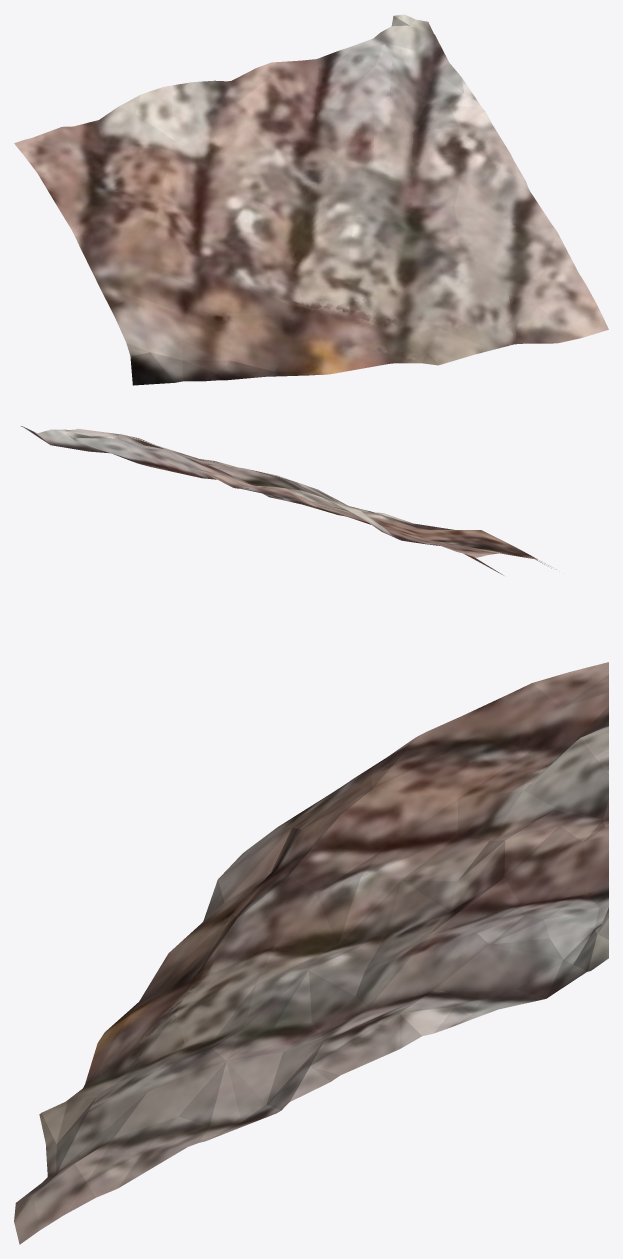
3 views of the same model, one above another, from view 1: azimuth 30°, elevation 25°; view 2: azimuth 150°, elevation 25°; view 3: azimuth 270°, elevation 25° (orthographic). The views are drawn at different scales.
Size of the model in its own units: 0.8374 by 0.3671 by 0.6386.
2 materials, 2 textured.
